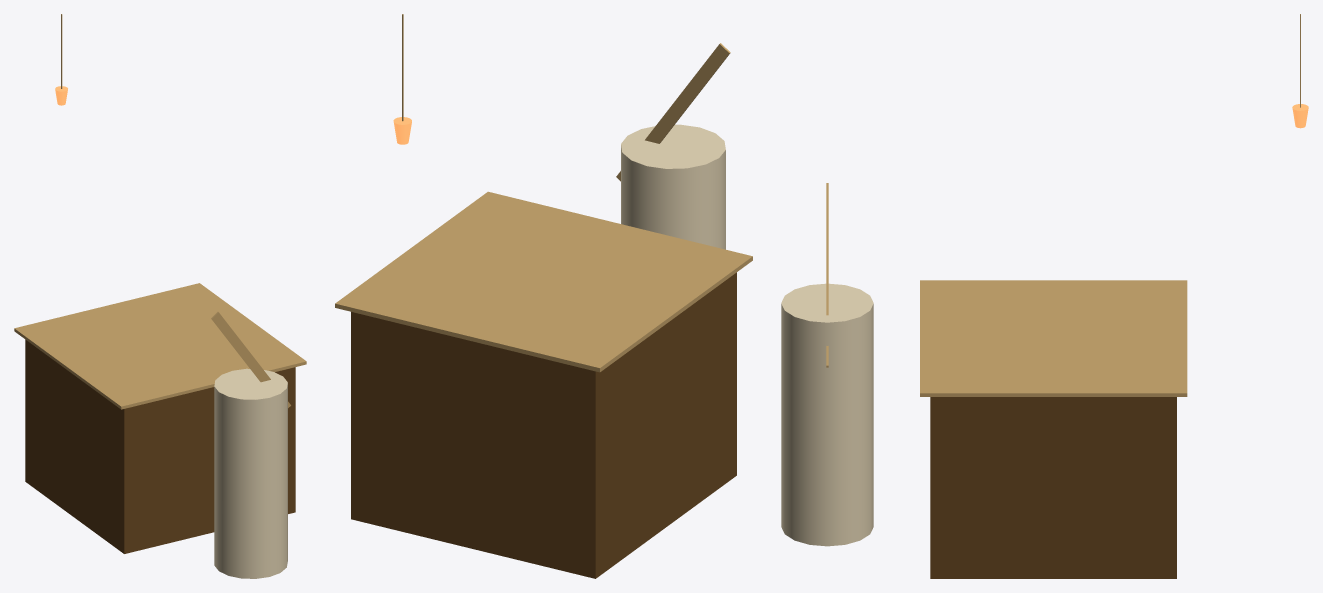
Rendered from sacrament-ordination.glb.
3 renders of one model, left to right at view 1: azimuth 30°, elevation 25°; view 2: azimuth 150°, elevation 25°; view 3: azimuth 270°, elevation 25°, orthographic. The views are drawn at different scales.
Parts seen in each view (by area): view 1: altar-table, altar-cloth, ordinand-figure, orarion; view 2: altar-table, altar-cloth, ordinand-figure, orarion; view 3: altar-table, altar-cloth, ordinand-figure.
Boxes of the visible parts, left/top/right/bottom form: altar-table: left=25, top=339, right=295, bottom=553; altar-cloth: left=14, top=283, right=306, bottom=409; ordinand-figure: left=214, top=368, right=287, bottom=578; orarion: left=211, top=312, right=290, bottom=407; altar-table: left=351, top=272, right=736, bottom=578; altar-cloth: left=335, top=191, right=752, bottom=372; ordinand-figure: left=621, top=124, right=725, bottom=249; orarion: left=616, top=43, right=730, bottom=181; altar-table: left=930, top=397, right=1176, bottom=578; altar-cloth: left=920, top=280, right=1187, bottom=396; ordinand-figure: left=781, top=283, right=873, bottom=546.
Size of what is drawn, in the model's own units: 1.3 by 2.75 by 2.56.
